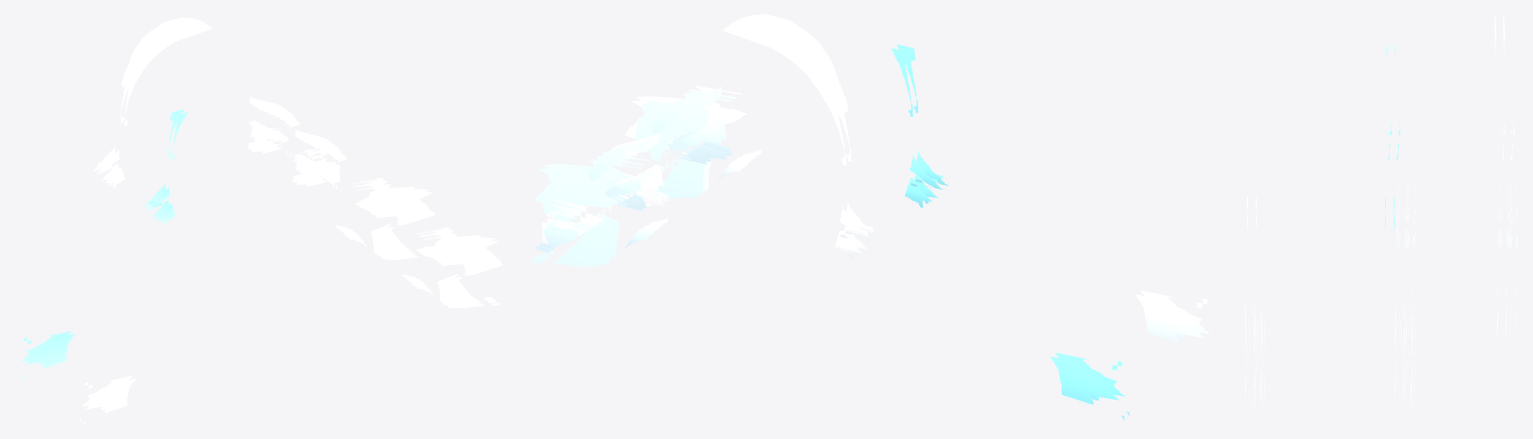
Rendered from yuna_semantic_layer_v9_hair_art_directed_v1_fuller.glb.
3 renders of one model, left to right at view 1: azimuth 30°, elevation 25°; view 2: azimuth 150°, elevation 25°; view 3: azimuth 270°, elevation 25°, orthographic. The views are drawn at different scales.
Parts seen in each view (by area): view 1: back_hair_mass_01, side_hair_right_primary_01, bangs_primary_01, side_hair_left_primary_01, back_hair_mass_02, side_hair_right_primary_02, bangs_primary_03, bangs_primary_04, side_hair_right_primary_03; view 2: bangs_primary_01, secondary_strands_01, side_hair_left_primary_01, back_hair_mass_02, secondary_strands_02, flyaway_strands_01, flyaway_strands_02, back_hair_mass_01, side_hair_right_primary_01, secondary_strands_09, secondary_strands_10, secondary_strands_06 (+8 smaller); view 3: no part large enough to name.
Boxes of the visible parts, left/top/right/bottom form: back_hair_mass_01: left=402, top=230, right=502, bottom=308; side_hair_right_primary_01: left=337, top=181, right=435, bottom=260; bangs_primary_01: left=120, top=17, right=212, bottom=126; side_hair_left_primary_01: left=18, top=331, right=74, bottom=379; back_hair_mass_02: left=79, top=375, right=136, bottom=424; side_hair_right_primary_02: left=292, top=148, right=334, bottom=186; bangs_primary_03: left=247, top=114, right=289, bottom=153; bangs_primary_04: left=253, top=99, right=299, bottom=151; side_hair_right_primary_03: left=298, top=132, right=346, bottom=184; bangs_primary_01: left=722, top=14, right=851, bottom=165; secondary_strands_01: left=533, top=157, right=667, bottom=265; side_hair_left_primary_01: left=1050, top=352, right=1129, bottom=419; back_hair_mass_02: left=1135, top=290, right=1214, bottom=357; secondary_strands_02: left=633, top=90, right=760, bottom=197; flyaway_strands_01: left=531, top=159, right=663, bottom=267; flyaway_strands_02: left=629, top=92, right=757, bottom=198; back_hair_mass_01: left=625, top=85, right=766, bottom=194; side_hair_right_primary_01: left=534, top=152, right=673, bottom=261; secondary_strands_09: left=651, top=91, right=716, bottom=160; secondary_strands_10: left=587, top=138, right=653, bottom=206; secondary_strands_06: left=536, top=208, right=604, bottom=252.
Bounding box in the file's own units: 2.99 × 1.85 × 1.5.
7 materials, 6 textured.
